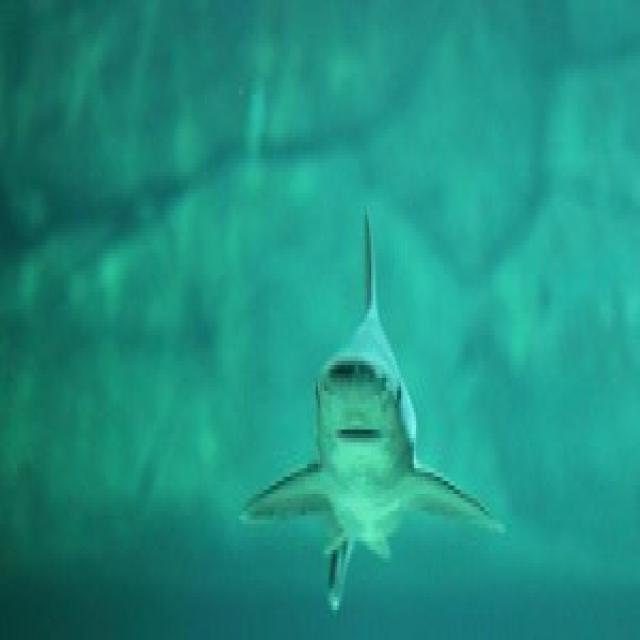Shark: (239, 202, 508, 609)
